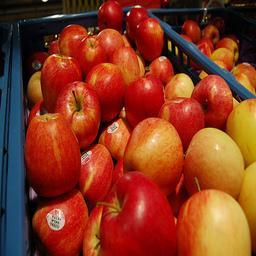apple: (92, 171, 175, 253), (173, 187, 251, 254), (120, 118, 188, 193), (24, 116, 83, 199), (184, 128, 245, 198), (31, 188, 87, 254), (55, 80, 101, 150), (74, 143, 114, 209), (190, 74, 233, 128), (85, 63, 124, 118), (158, 98, 206, 141), (228, 97, 255, 167), (41, 54, 81, 100), (126, 75, 165, 120), (96, 115, 130, 162), (110, 45, 140, 84), (75, 36, 106, 70), (60, 24, 88, 56), (145, 55, 174, 85), (164, 73, 194, 99), (98, 1, 123, 31), (125, 6, 148, 36)
